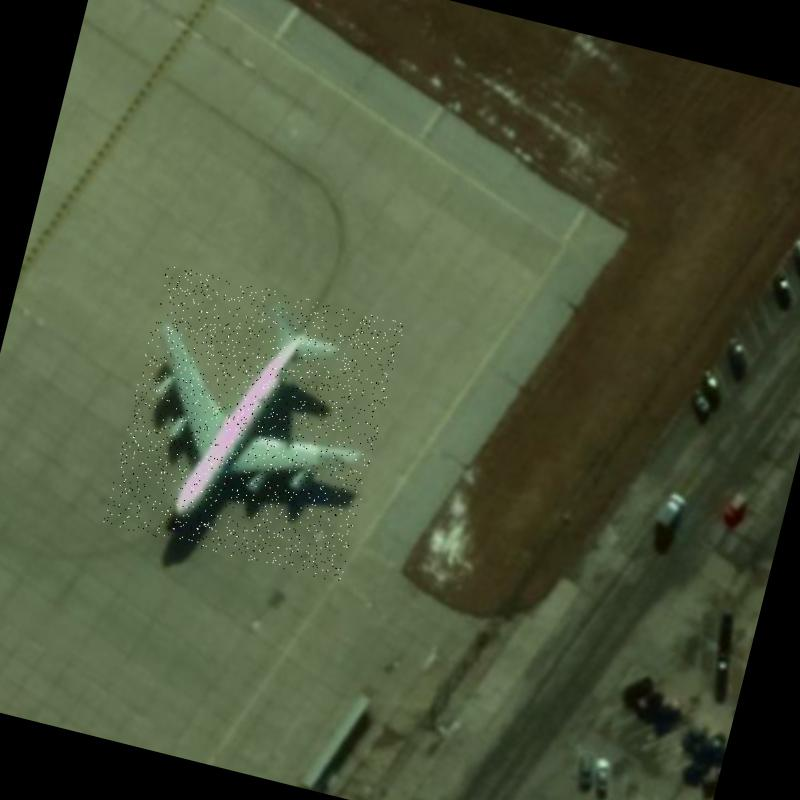A11: (102, 264, 405, 583)
